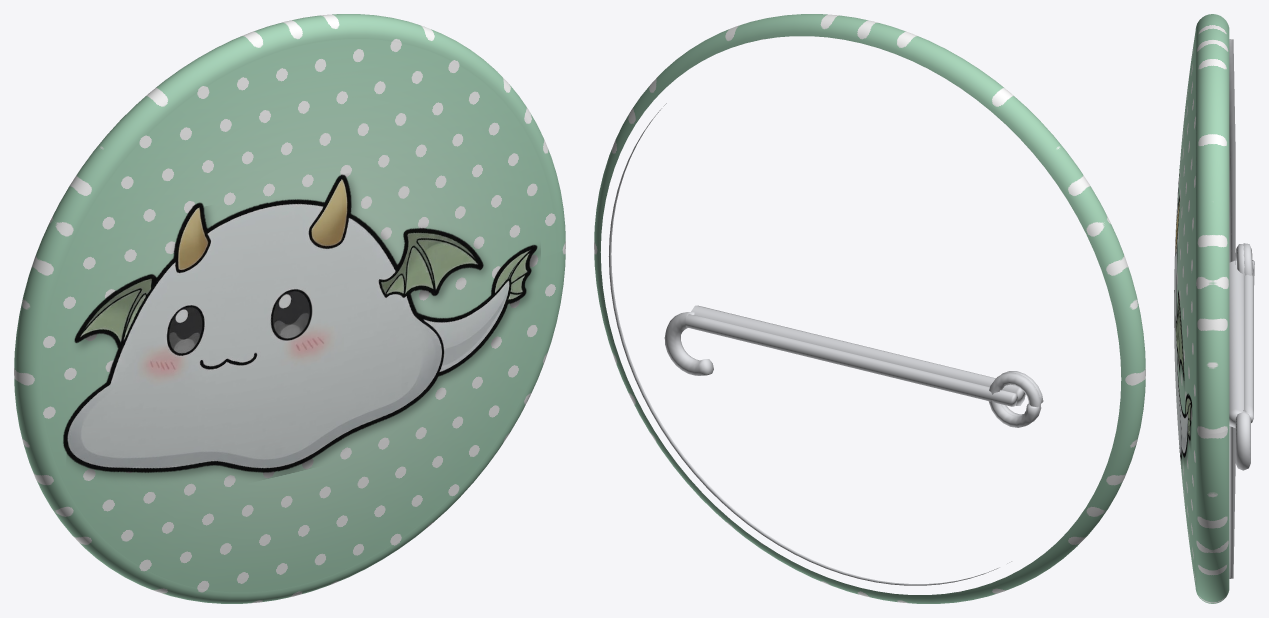
Rendered from badge_dragon.glb.
3 renders of one model, left to right at view 1: azimuth 30°, elevation 25°; view 2: azimuth 150°, elevation 25°; view 3: azimuth 270°, elevation 25°, orthographic. The views are drawn at different scales.
Visible parts, largest first — view 1: Front; view 2: Front, Back; view 3: Front, Back.
Boxes of the visible parts, x1=… form: Front: x1=14, y1=14, x2=565, y2=603; Front: x1=594, y1=14, x2=1145, y2=603; Back: x1=608, y1=103, x2=1043, y2=585; Front: x1=1174, y1=14, x2=1229, y2=603; Back: x1=1229, y1=39, x2=1254, y2=578.
Bounding box in the file's own units: 0.0605 × 0.0605 × 0.00829.
3 materials, 1 textured.
